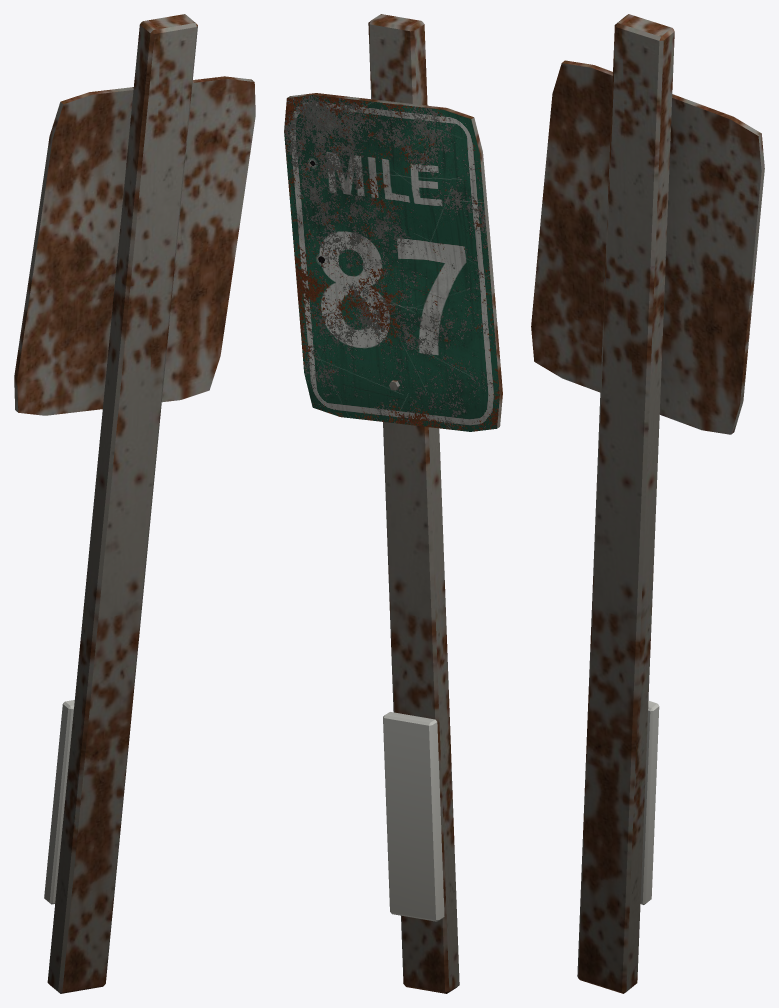
The model's file is mile_marker.glb.
The picture shows the model from 3 angles, left to right: view 1: azimuth 30°, elevation 25°; view 2: azimuth 150°, elevation 25°; view 3: azimuth 330°, elevation 25°; orthographic projection. The views are drawn at different scales.
Visible parts, largest first — view 1: mile_marker_galvanized, mile_marker_reflective_white; view 2: mile_marker_mile_marker, mile_marker_galvanized, mile_marker_reflective_white; view 3: mile_marker_galvanized, mile_marker_reflective_white.
Boxes of the visible parts, bbox=[...] form: mile_marker_galvanized: bbox=[14, 14, 255, 993]; mile_marker_reflective_white: bbox=[44, 700, 74, 904]; mile_marker_mile_marker: bbox=[284, 95, 499, 431]; mile_marker_galvanized: bbox=[287, 14, 502, 993]; mile_marker_reflective_white: bbox=[383, 712, 444, 921]; mile_marker_galvanized: bbox=[531, 14, 764, 993]; mile_marker_reflective_white: bbox=[640, 700, 659, 904].
Bounding box in the file's own units: 0.3389 × 1.36 × 0.1225.
Materials: 3 (2 with a texture image).
